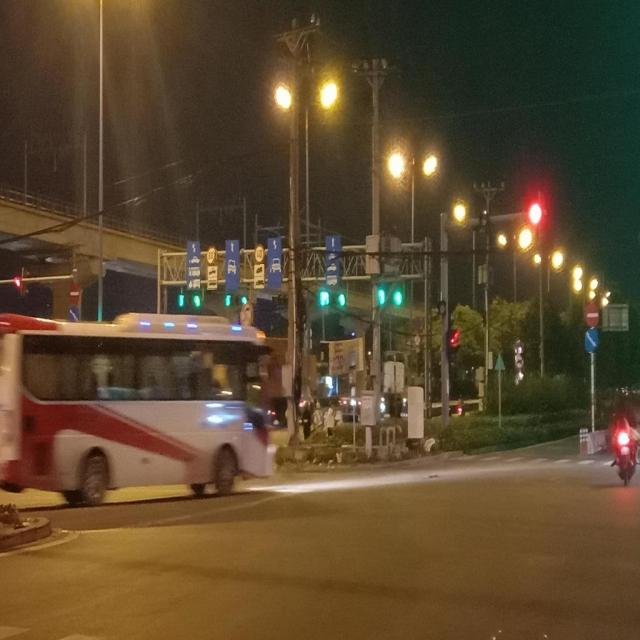cam_o_to: (268, 238, 281, 286), (226, 241, 238, 290)
cam_o_to_tai: (516, 354, 524, 372)
cam_xe_2_banh_va_xe_3_banh_co_dong_co: (240, 303, 253, 327)
cam_xe_di_nguoc_chieu: (584, 302, 599, 328), (68, 282, 79, 306)
huong_phai_di_vuot_chuong_ngai_vat_phai: (585, 329, 600, 354), (69, 306, 78, 322)
khac: (326, 236, 342, 286), (188, 242, 200, 290), (207, 267, 218, 278), (254, 264, 264, 276), (208, 278, 218, 290), (254, 277, 264, 288)
toc_do_toi_da_60: (254, 245, 265, 262)
toc_do_toi_da_80: (208, 245, 218, 265)
